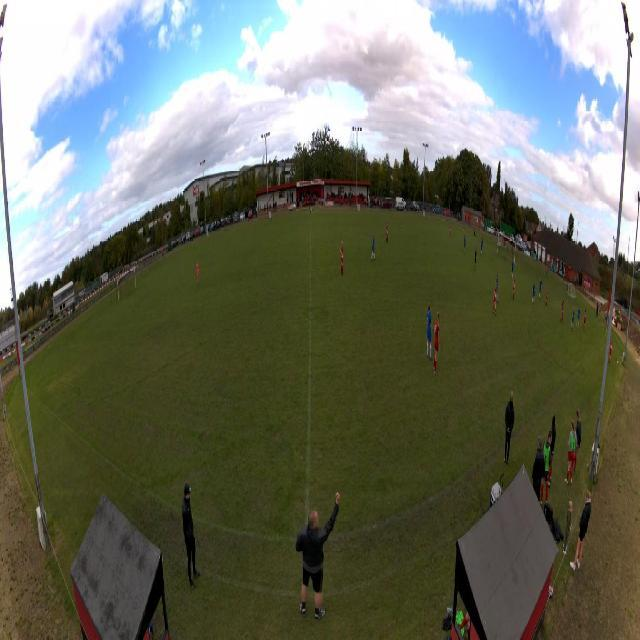player: (426, 303, 433, 361), (433, 311, 439, 376), (340, 241, 345, 277), (371, 233, 376, 261), (494, 282, 498, 316), (495, 274, 499, 305), (576, 306, 581, 328), (196, 259, 200, 285), (512, 274, 516, 300), (561, 300, 565, 325), (571, 307, 575, 332), (546, 287, 550, 309), (583, 310, 587, 332), (474, 247, 477, 272), (386, 222, 389, 246), (532, 283, 535, 305), (539, 278, 542, 300), (511, 258, 514, 279), (464, 235, 467, 256), (480, 237, 483, 256), (504, 243, 507, 259), (450, 223, 452, 238)
